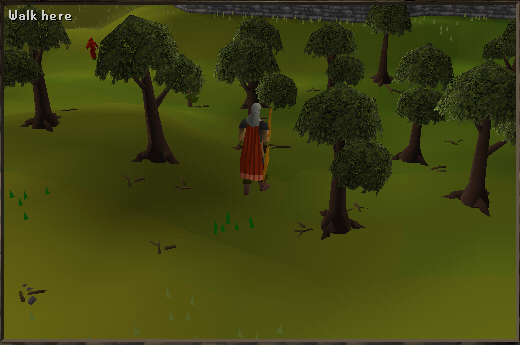Tree: (90, 18, 200, 161), (314, 66, 380, 244), (447, 55, 513, 212), (0, 22, 71, 131), (393, 37, 446, 164), (220, 18, 292, 110), (360, 2, 413, 86)
